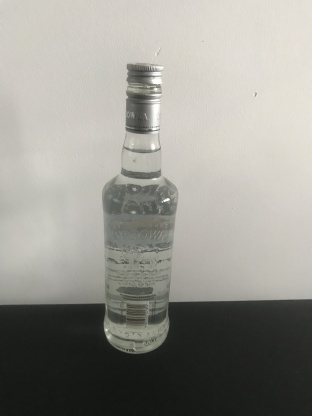nakretka: (124, 60, 164, 133)
